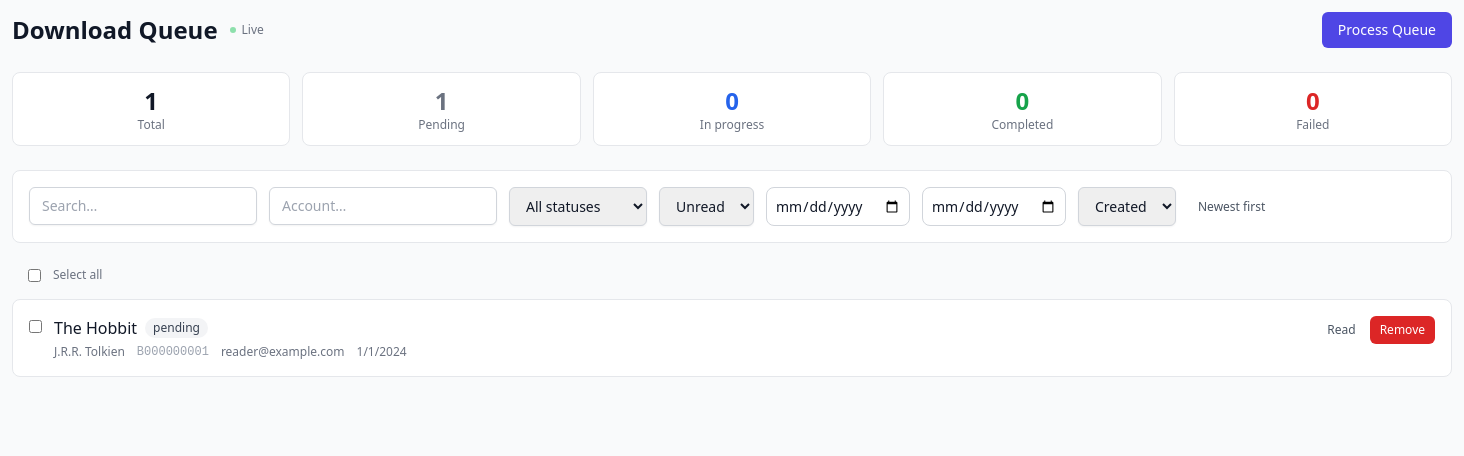
Test: DownloadQueuePage › reports a failed queue job instead of leaving it looking busy
Step 1. Click the button "Process Queue" → (1387, 30), box [1322,12,1452,48]
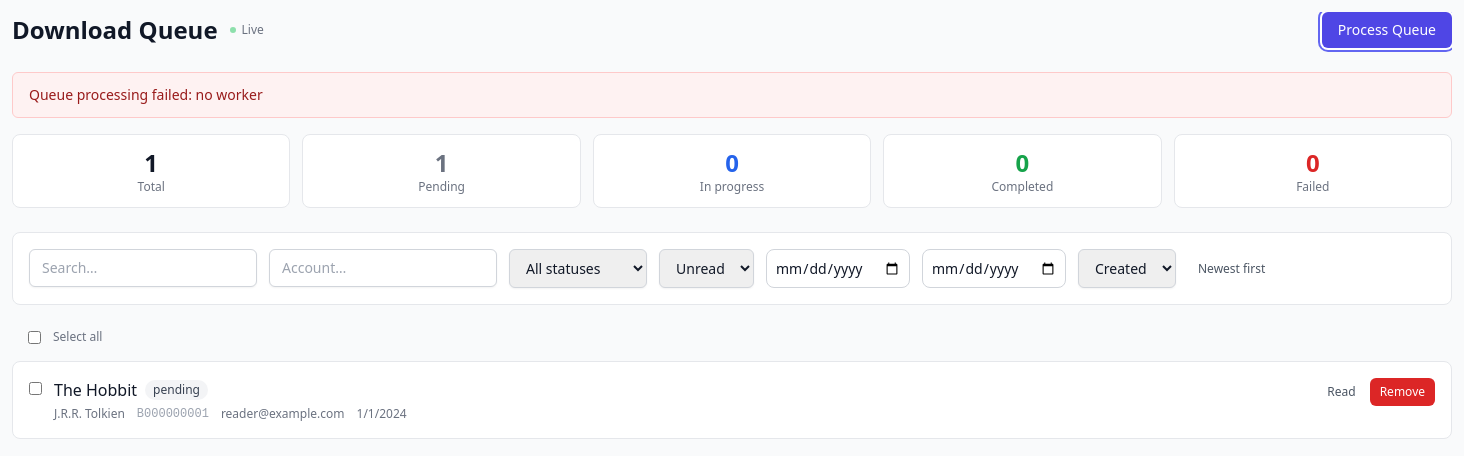
Check: the text "Queue processing failed: no worker" is shown, box [12,72,1452,118]
